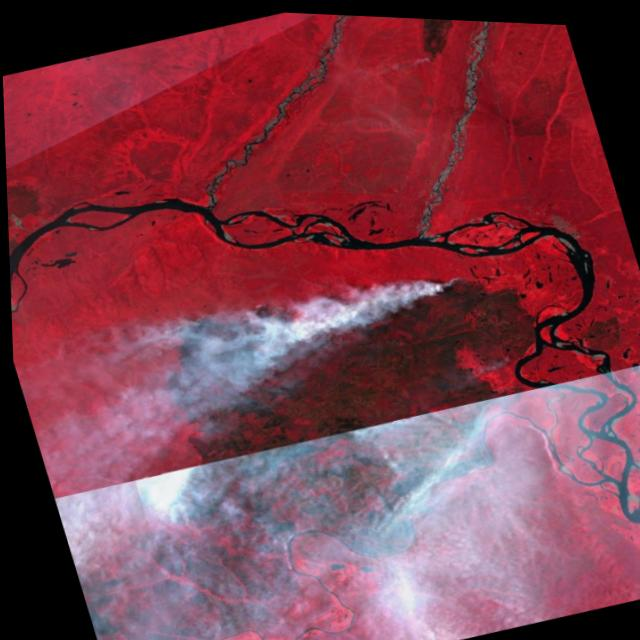fire: (139, 232, 471, 390), (114, 452, 208, 538)
